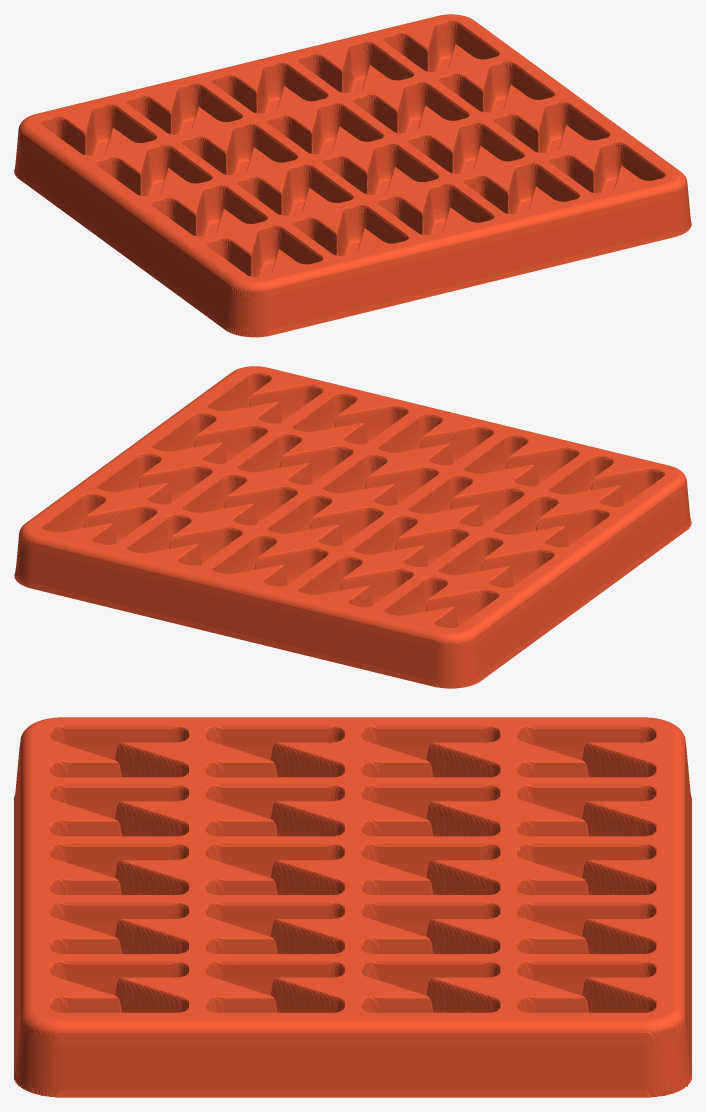
Rendered from mold.glb.
3 renders of one model, top to bottom at view 1: azimuth 30°, elevation 25°; view 2: azimuth 150°, elevation 25°; view 3: azimuth 270°, elevation 25°, orthographic. The views are drawn at different scales.
Parts seen in each view (by area): view 1: geometry_0; view 2: geometry_0; view 3: geometry_0.
Part boxes in pixels (left/top/right/bottom): geometry_0: left=14, top=14, right=691, bottom=337; geometry_0: left=14, top=366, right=691, bottom=688; geometry_0: left=14, top=717, right=691, bottom=1097.
Bounding box in the file's own units: 0.1415 × 0.0145 × 0.1278.
